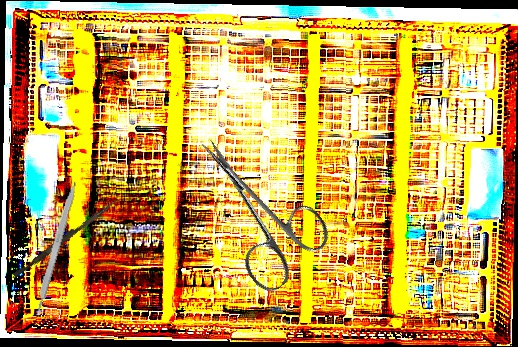Iris Scissors: (167, 114, 340, 298)
Pusher: (12, 197, 116, 281)
Scalpel Handle: (31, 179, 79, 318)
